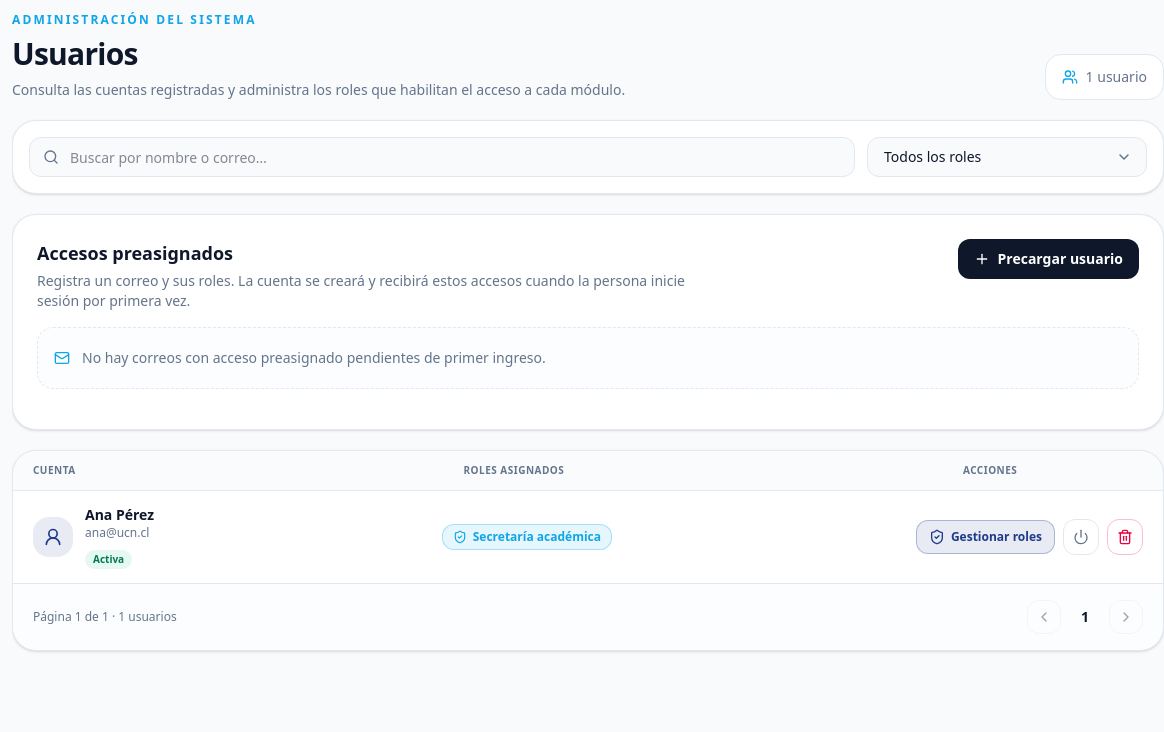
Scenario: UsersPage (administración de usuarios) › desactivar una cuenta envía el nuevo estado
The width and height of the screenshot is (1164, 732).
Click the button named "Desactivar cuenta de Ana Pérez": click(1081, 537) [1063,519,1099,555]
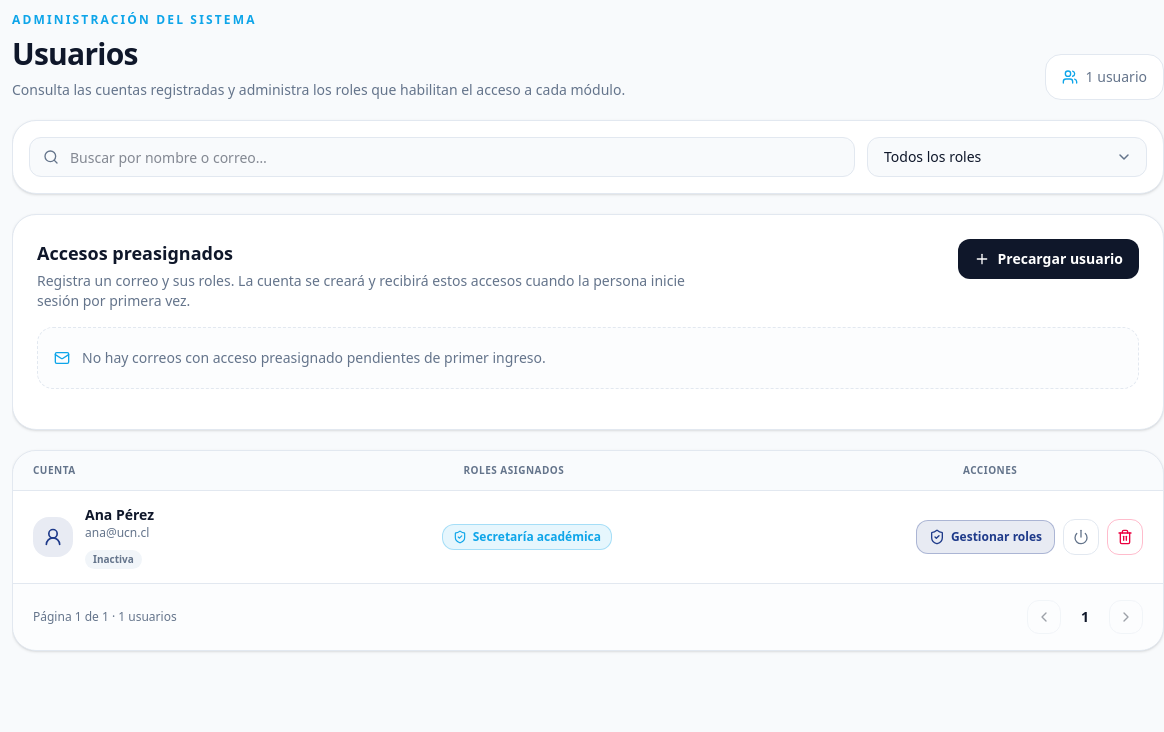
Now the text "Inactiva" is shown, box [85,550,142,569]
